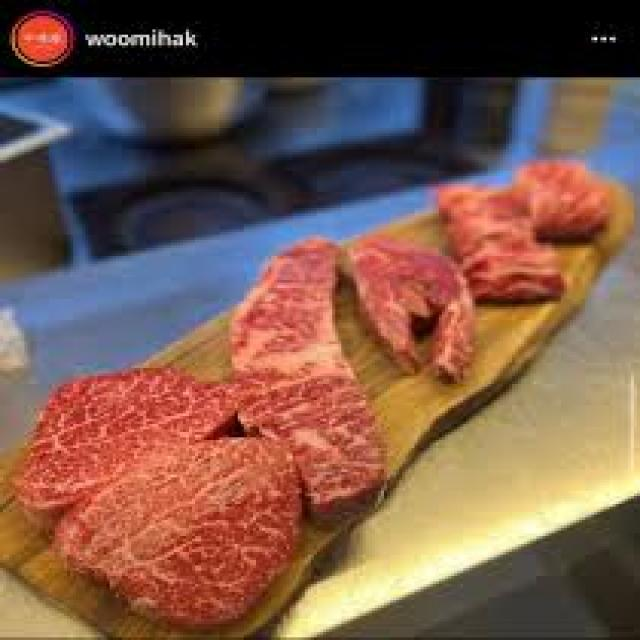Beef: (55, 440, 302, 629), (232, 240, 390, 508)
